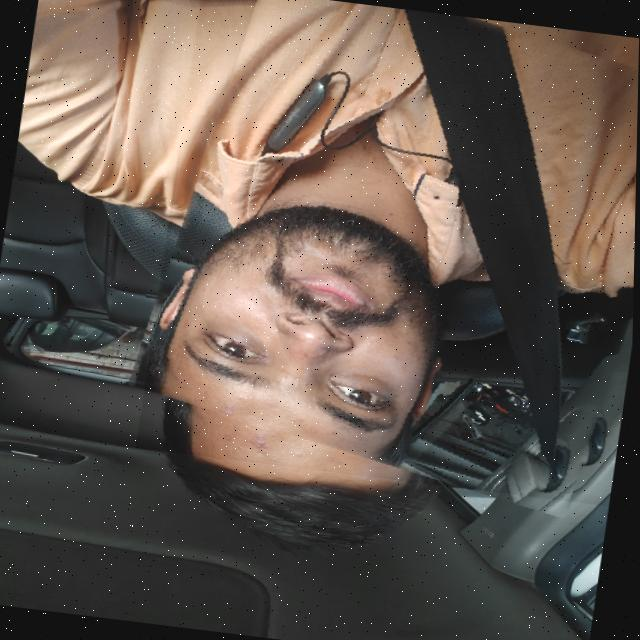seatbelt: (135, 0, 640, 505)
